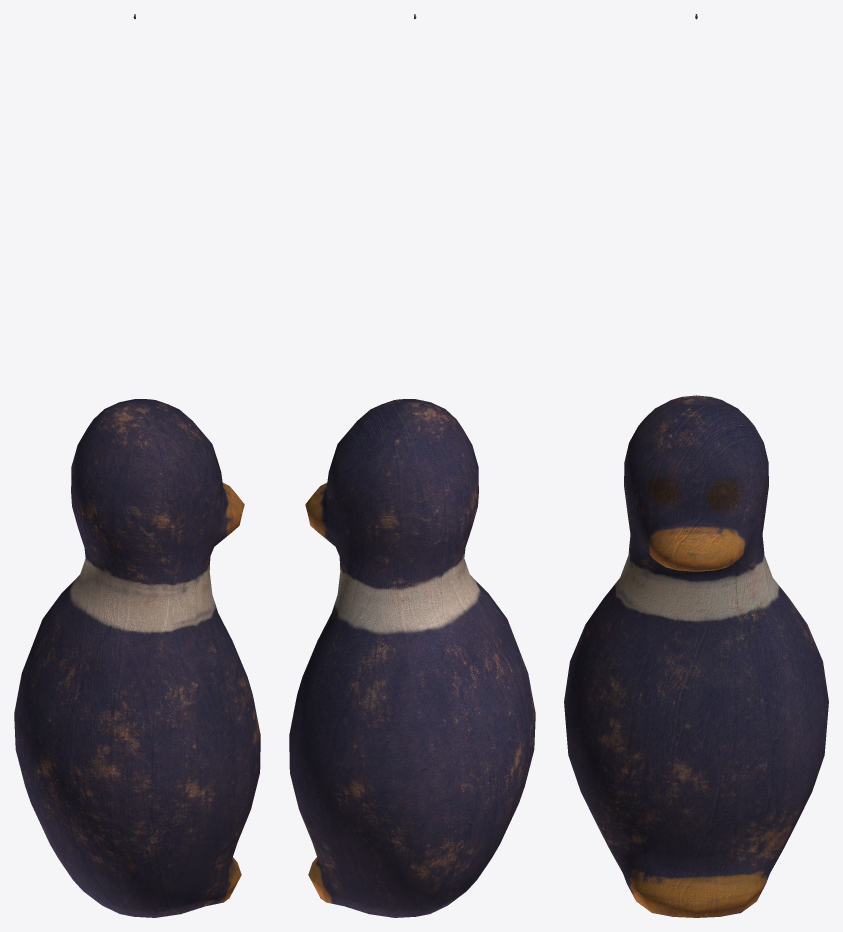
3 views of the same model, side by side, from view 1: azimuth 30°, elevation 25°; view 2: azimuth 150°, elevation 25°; view 3: azimuth 270°, elevation 25° (orthographic). The views are drawn at different scales.
Visible parts, largest first — view 1: Pinguin; view 2: Pinguin; view 3: Pinguin.
Boxes of the visible parts, bbox=[...] form: Pinguin: bbox=[14, 399, 260, 917]; Pinguin: bbox=[289, 399, 535, 917]; Pinguin: bbox=[564, 395, 828, 917].
Size of the model in its own units: 364 by 1528 by 424.
Materials: 1 (1 with a texture image).
